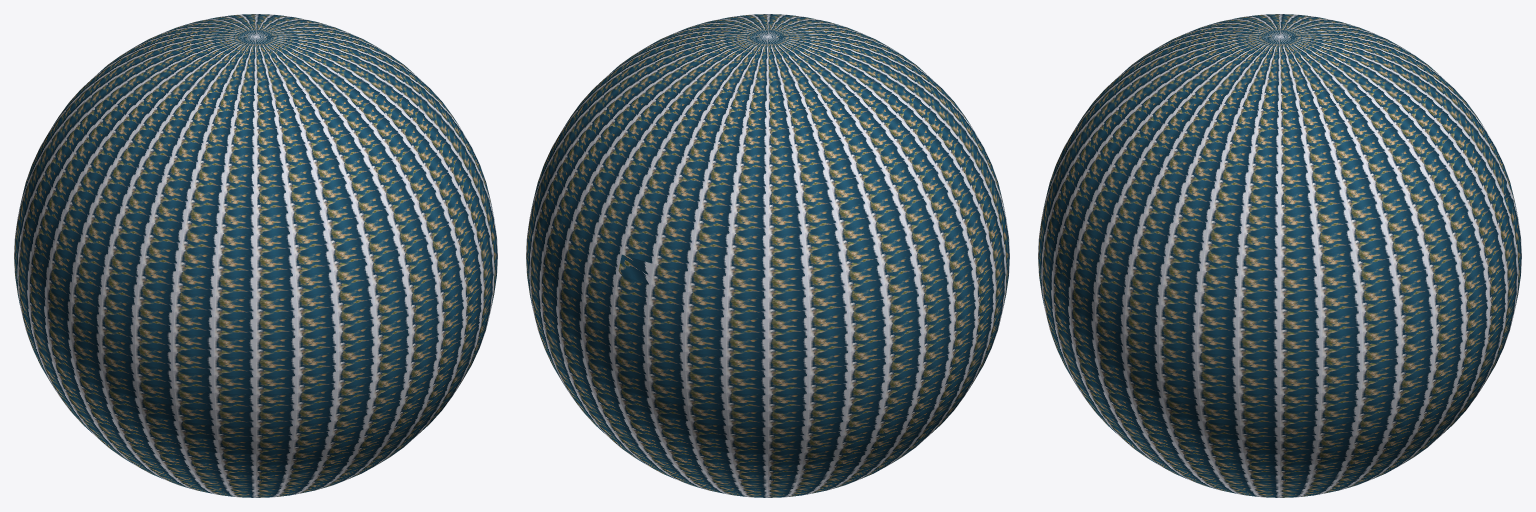
The model's file is globe.obj.
The picture shows the model from 3 angles, left to right: view 1: azimuth 30°, elevation 25°; view 2: azimuth 150°, elevation 25°; view 3: azimuth 270°, elevation 25°; orthographic projection.
Visible parts, largest first — view 1: Sphere; view 2: Sphere; view 3: Sphere.
Part boxes in pixels (<box>): Sphere: <box>14,14,497,497</box>; Sphere: <box>526,14,1009,497</box>; Sphere: <box>1038,14,1521,497</box>.
Size of the model in its own units: 2 by 2 by 2.
